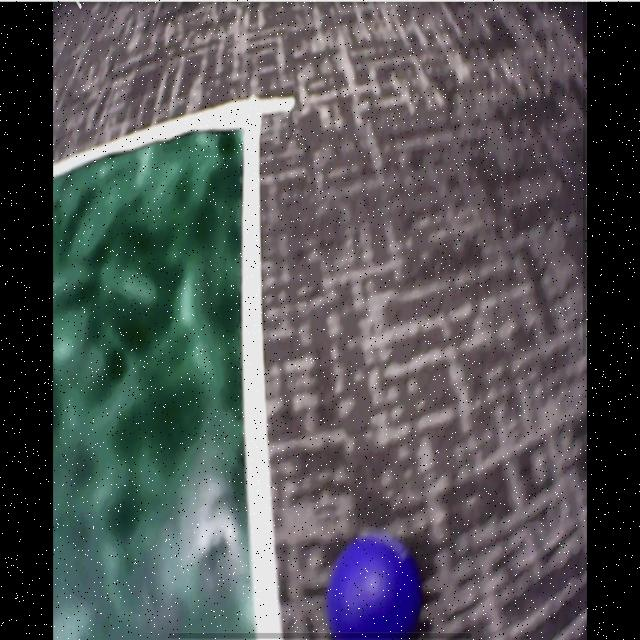ball: (327, 538, 421, 640)
